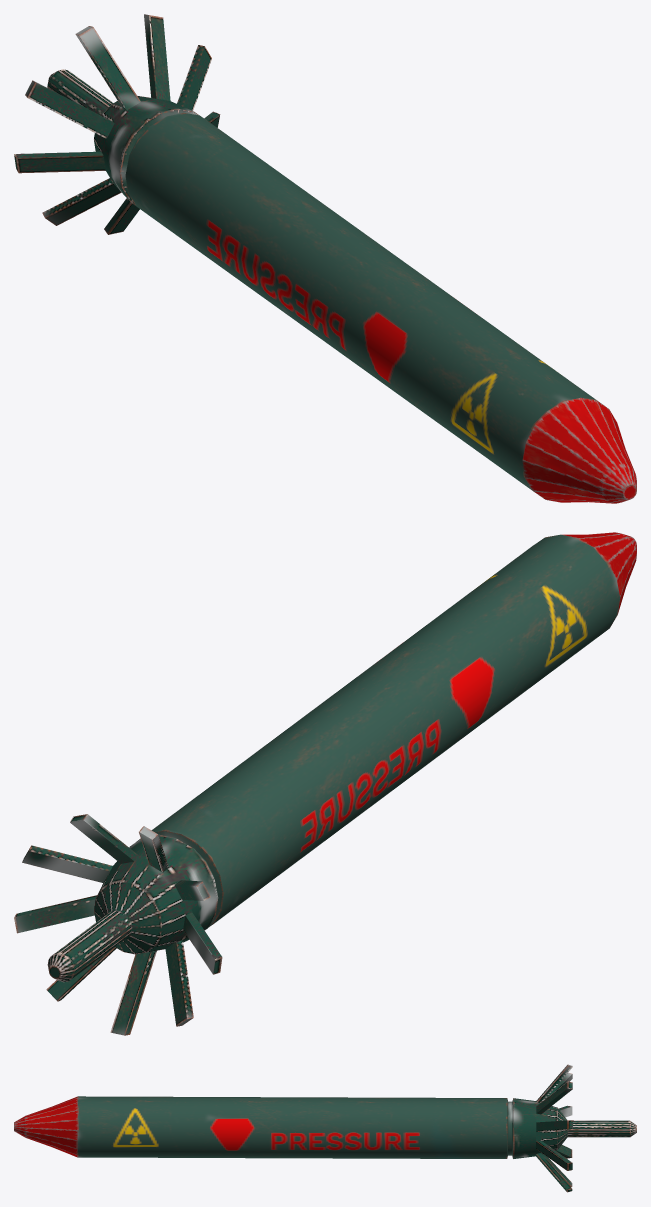
Rendered from rocket.glb.
3 renders of one model, top to bottom at view 1: azimuth 30°, elevation 25°; view 2: azimuth 150°, elevation 25°; view 3: azimuth 270°, elevation 25°, orthographic. The views are drawn at different scales.
Parts seen in each view (by area): view 1: Cylinder003; view 2: Cylinder003; view 3: Cylinder003.
Boxes of the visible parts, x1,y1,x2,y2 form: Cylinder003: (14,14,636,503); Cylinder003: (14,532,636,1035); Cylinder003: (14,1064,636,1192).
Bounding box in the file's own units: 1.97 × 1.95 × 9.57.
1 material, 1 textured.
